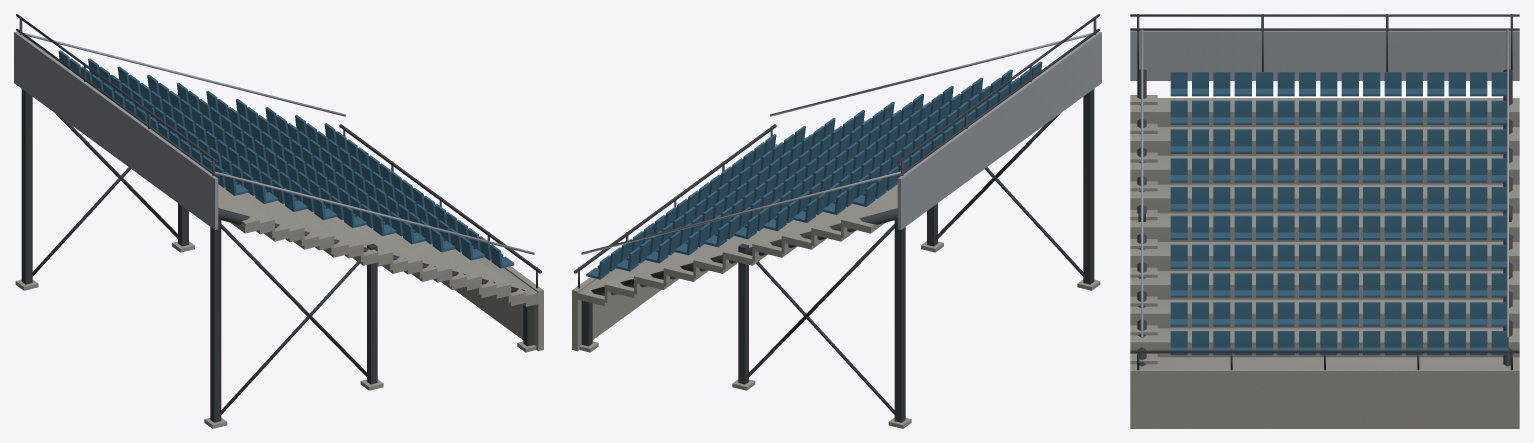
File: grandstand_mobile.glb
3 renders of one model, left to right at view 1: azimuth 30°, elevation 25°; view 2: azimuth 150°, elevation 25°; view 3: azimuth 270°, elevation 25°, orthographic. The views are drawn at different scales.
Visible parts, largest first — view 1: seat, concrete, galvanised, dark-steel; view 2: seat, dark-steel, galvanised, concrete; view 3: concrete, seat, galvanised, dark-steel.
Part boxes in pixels (x1,y1,x2,y2): seat: (58, 50, 514, 268); concrete: (15, 184, 543, 428); galvanised: (14, 31, 534, 254); dark-steel: (16, 14, 541, 422); seat: (586, 61, 1042, 279); dark-steel: (574, 14, 1099, 422); galvanised: (581, 31, 1101, 254); concrete: (572, 81, 1100, 428); concrete: (1130, 95, 1519, 428); seat: (1170, 72, 1508, 355); galvanised: (1130, 29, 1519, 337); dark-steel: (1130, 14, 1519, 370).
Bounding box in the file's own units: 9.47 × 7.38 × 10.
Materials: 4 (3 with a texture image).
